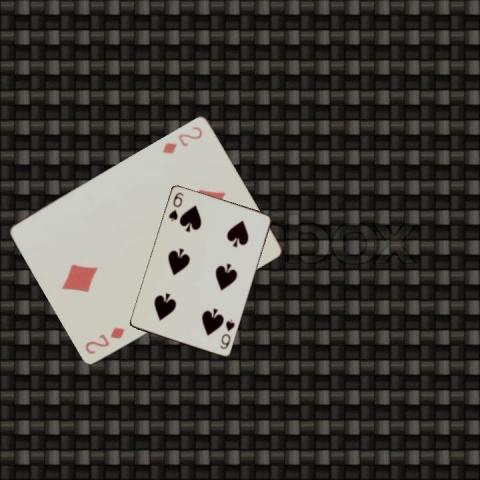2d: (159, 123, 204, 155), (82, 324, 127, 356)
6s: (217, 316, 236, 350), (166, 189, 185, 223)
